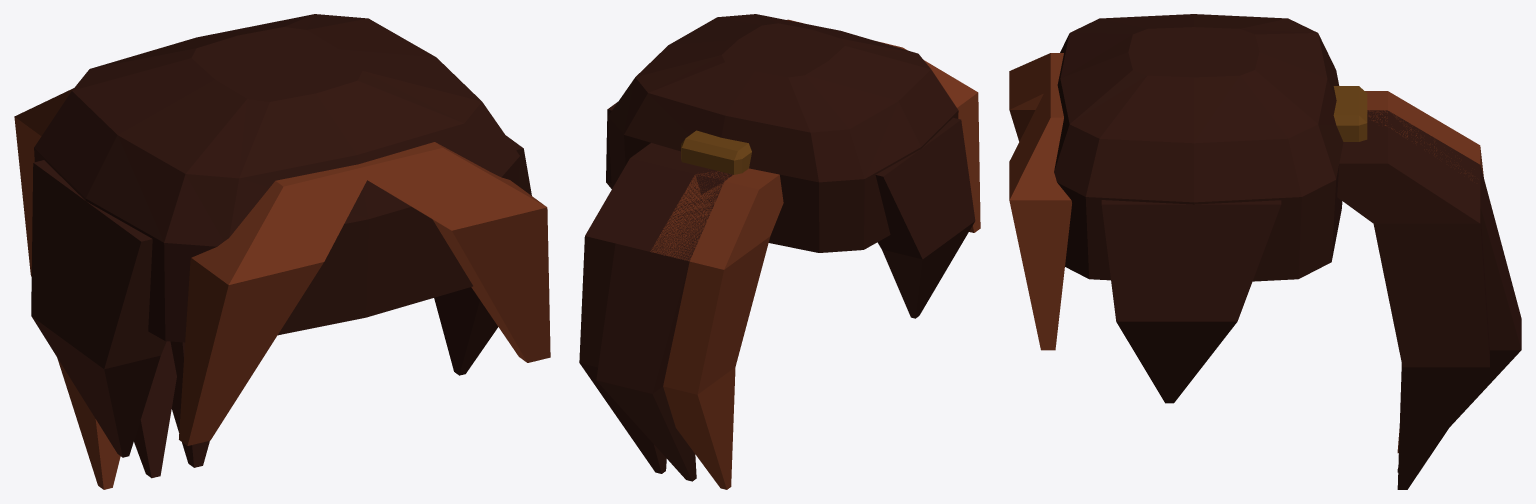
File: hair-ember-ponytail-v1.fbx
The picture shows the model from 3 angles, left to right: view 1: azimuth 30°, elevation 25°; view 2: azimuth 150°, elevation 25°; view 3: azimuth 270°, elevation 25°; orthographic projection. The views are drawn at different scales.
Parts seen in each view (by area): view 1: hair-ember-ponytail-v1; view 2: hair-ember-ponytail-v1; view 3: hair-ember-ponytail-v1.
Part boxes in pixels (<box>): hair-ember-ponytail-v1: <box>14,14,550,489</box>; hair-ember-ponytail-v1: <box>579,14,980,489</box>; hair-ember-ponytail-v1: <box>1009,14,1521,489</box>.
Size of the model in its own units: 174 by 190 by 211.
1 material, 1 textured.
